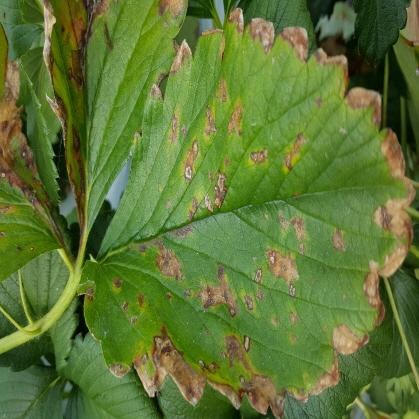Angular Leafspot: (77, 6, 416, 418), (43, 0, 190, 247), (0, 20, 67, 282)
